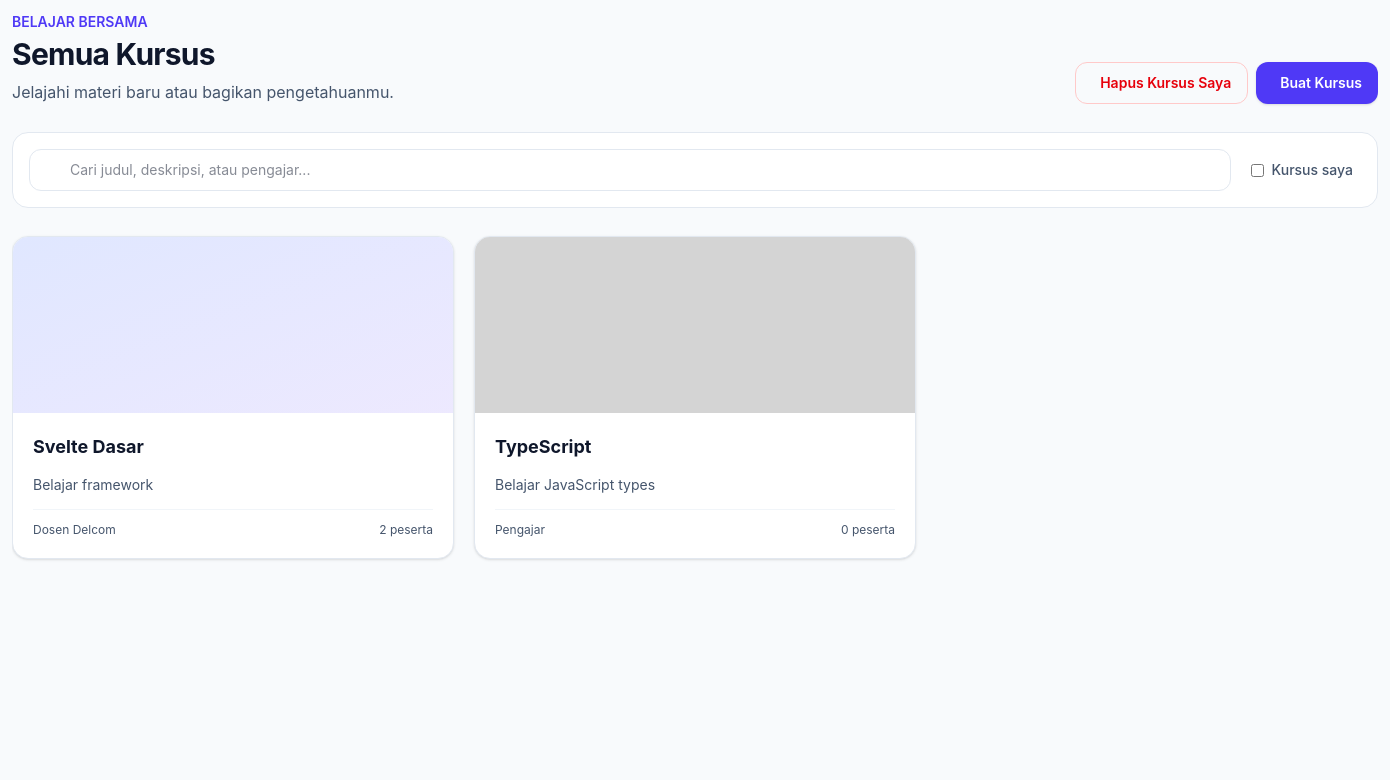
Test: HomePage › loads and displays courses, and filters by search and ownership
Expected: the link "Svelte Dasar" is shown, left=33, top=433, right=144, bottom=461
Expected: the text "Pengajar" is shown, left=495, top=522, right=545, bottom=538
Type "type" into the search field named "Cari kursus" at {"x": 630, "y": 170}, box left=29, top=149, right=1231, bottom=191
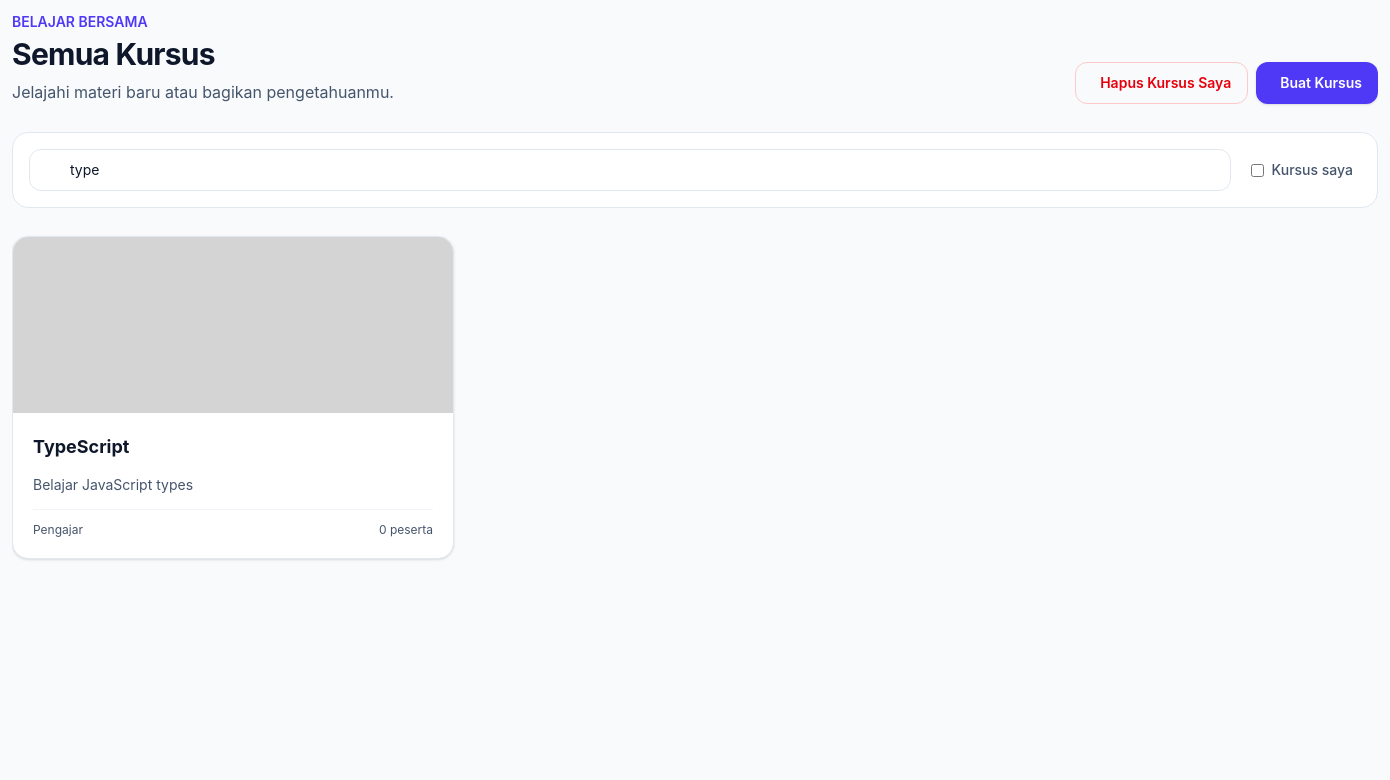
Expected: the link "TypeScript" is shown, left=33, top=433, right=129, bottom=461
Now the link "Svelte Dasar" is gone
Clear the search field named "Cari kursus" at {"x": 630, "y": 170}, box left=29, top=149, right=1231, bottom=191
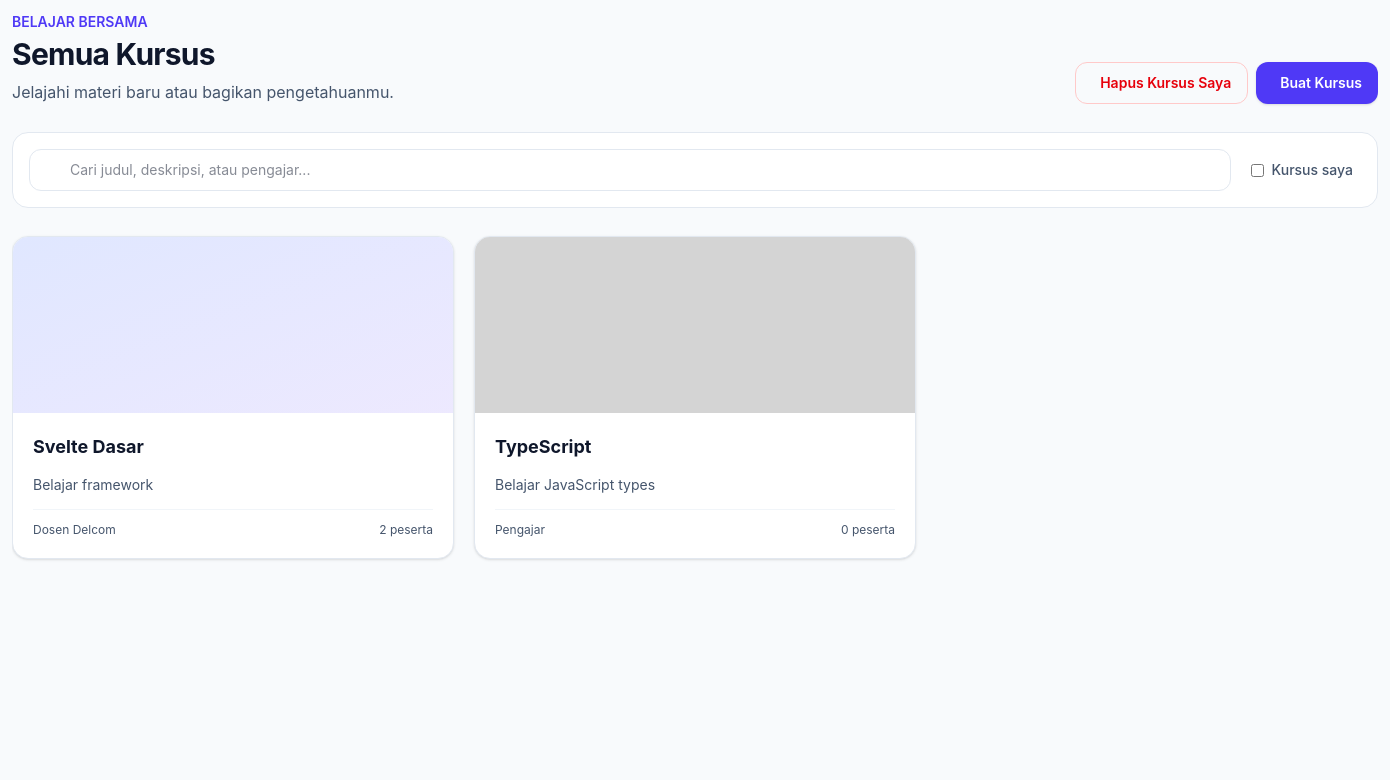
Click the checkbox labelled "Kursus saya" at {"x": 1257, "y": 170}, box left=1251, top=164, right=1264, bottom=176
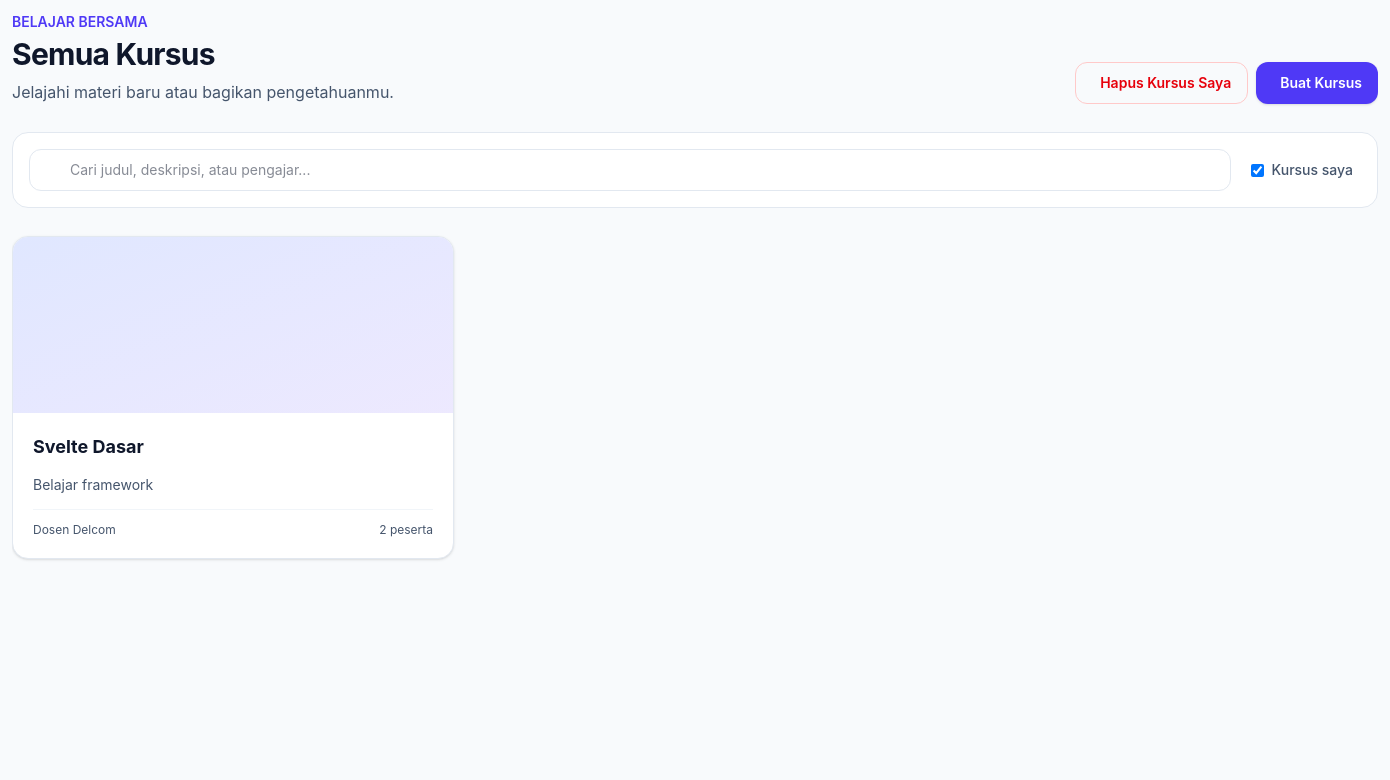
Now the link "Svelte Dasar" is shown, box left=33, top=433, right=144, bottom=461
Now the link "TypeScript" is gone
